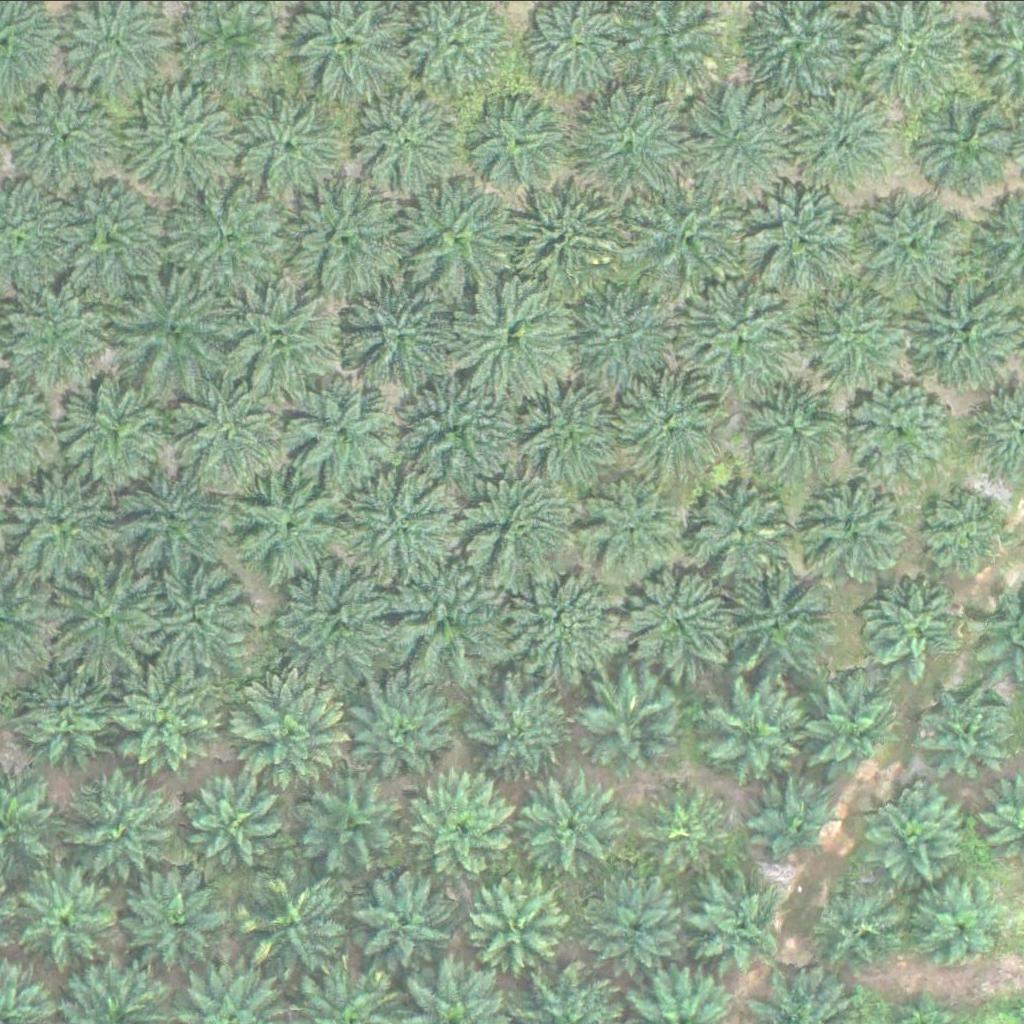Kelapa_Sawit: (220, 666, 346, 791), (337, 670, 463, 795), (278, 553, 404, 678), (389, 553, 515, 678), (108, 453, 234, 578), (114, 266, 240, 391), (220, 277, 346, 402), (349, 269, 475, 394), (285, 176, 411, 301), (167, 176, 293, 301), (51, 169, 177, 294), (498, 556, 624, 681), (463, 465, 589, 590), (795, 275, 921, 400), (673, 275, 799, 400), (453, 273, 579, 398), (494, 165, 620, 290), (617, 175, 743, 300), (746, 174, 872, 299), (684, 79, 810, 204), (574, 78, 700, 203), (39, 545, 164, 670), (341, 458, 466, 583), (615, 561, 740, 686), (6, 285, 120, 398), (233, 87, 347, 200), (356, 74, 470, 187), (577, 284, 691, 397), (67, 769, 180, 882), (238, 473, 351, 586), (284, 373, 397, 486), (172, 372, 285, 485), (130, 78, 243, 191), (726, 564, 839, 677), (859, 188, 972, 301), (244, 868, 358, 980), (411, 768, 525, 880), (62, 373, 176, 485), (110, 667, 223, 779), (146, 559, 259, 671), (404, 180, 517, 292), (909, 82, 1022, 194), (13, 870, 114, 970), (120, 872, 221, 972), (188, 770, 289, 870), (20, 670, 121, 770), (799, 679, 900, 779), (868, 784, 969, 884), (592, 873, 693, 973), (686, 873, 787, 973), (805, 880, 906, 980), (16, 74, 117, 174), (866, 578, 967, 678), (814, 481, 915, 581), (693, 483, 794, 583), (581, 478, 682, 578), (623, 370, 724, 470), (852, 377, 953, 477), (471, 92, 572, 192), (349, 866, 449, 966), (303, 776, 403, 876), (475, 679, 575, 779), (583, 671, 683, 771), (709, 683, 809, 783), (525, 772, 625, 872), (470, 875, 570, 975), (516, 389, 616, 489), (804, 82, 904, 182), (403, 380, 503, 479), (753, 776, 841, 864), (645, 783, 733, 871), (923, 689, 1011, 777), (757, 386, 845, 474), (920, 879, 1009, 966), (924, 491, 1012, 578)
